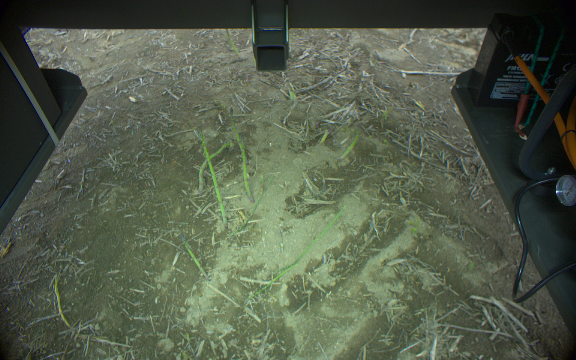aspa: (197, 129, 229, 230), (229, 107, 256, 204), (197, 141, 232, 197), (178, 235, 212, 283), (53, 274, 73, 332), (338, 128, 360, 162), (226, 29, 240, 59)
